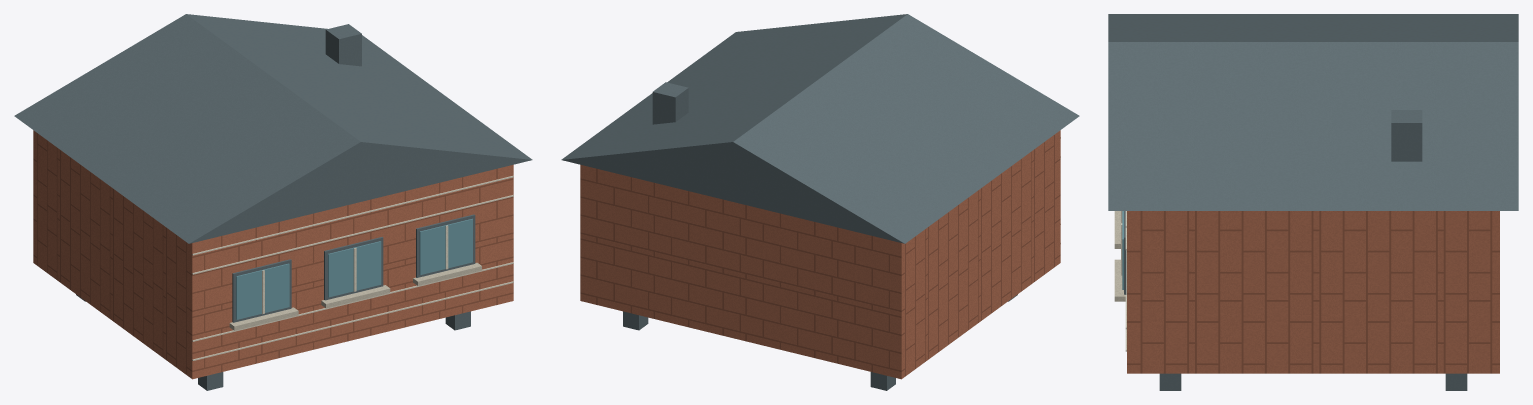
File: utility-cabin.glb
3 views of the same model, side by side, from view 1: azimuth 30°, elevation 25°; view 2: azimuth 150°, elevation 25°; view 3: azimuth 270°, elevation 25° (orthographic). The views are drawn at different scales.
Size of the model in its own units: 7.5 by 4.85 by 6.6.
5 materials, 4 textured.
